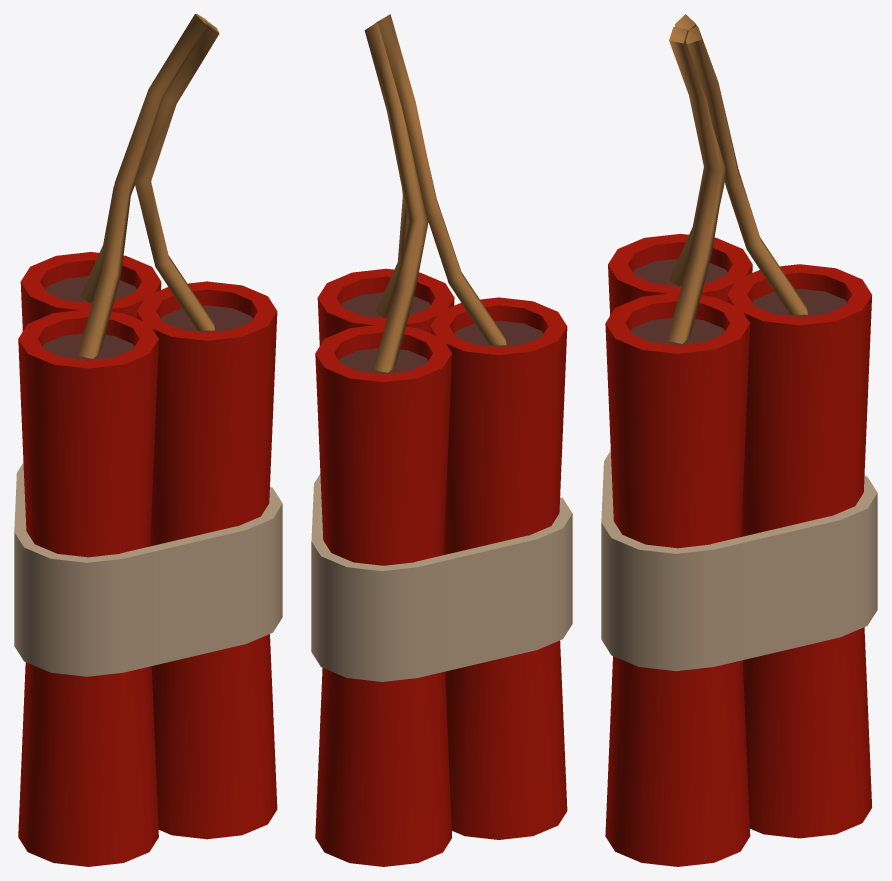
Rendered from item_dynamite.fbx.
3 views of the same model, side by side, from view 1: azimuth 30°, elevation 25°; view 2: azimuth 150°, elevation 25°; view 3: azimuth 270°, elevation 25° (orthographic). The views are drawn at different scales.
Parts seen in each view (by area): view 1: item_dynamite; view 2: item_dynamite; view 3: item_dynamite.
Part boxes in pixels (x1=…): item_dynamite: x1=14, y1=14, x2=282, y2=866; item_dynamite: x1=311, y1=14, x2=572, y2=866; item_dynamite: x1=601, y1=14, x2=877, y2=866.
Bounding box in the file's own units: 0.8121 × 2.49 × 0.7623.
